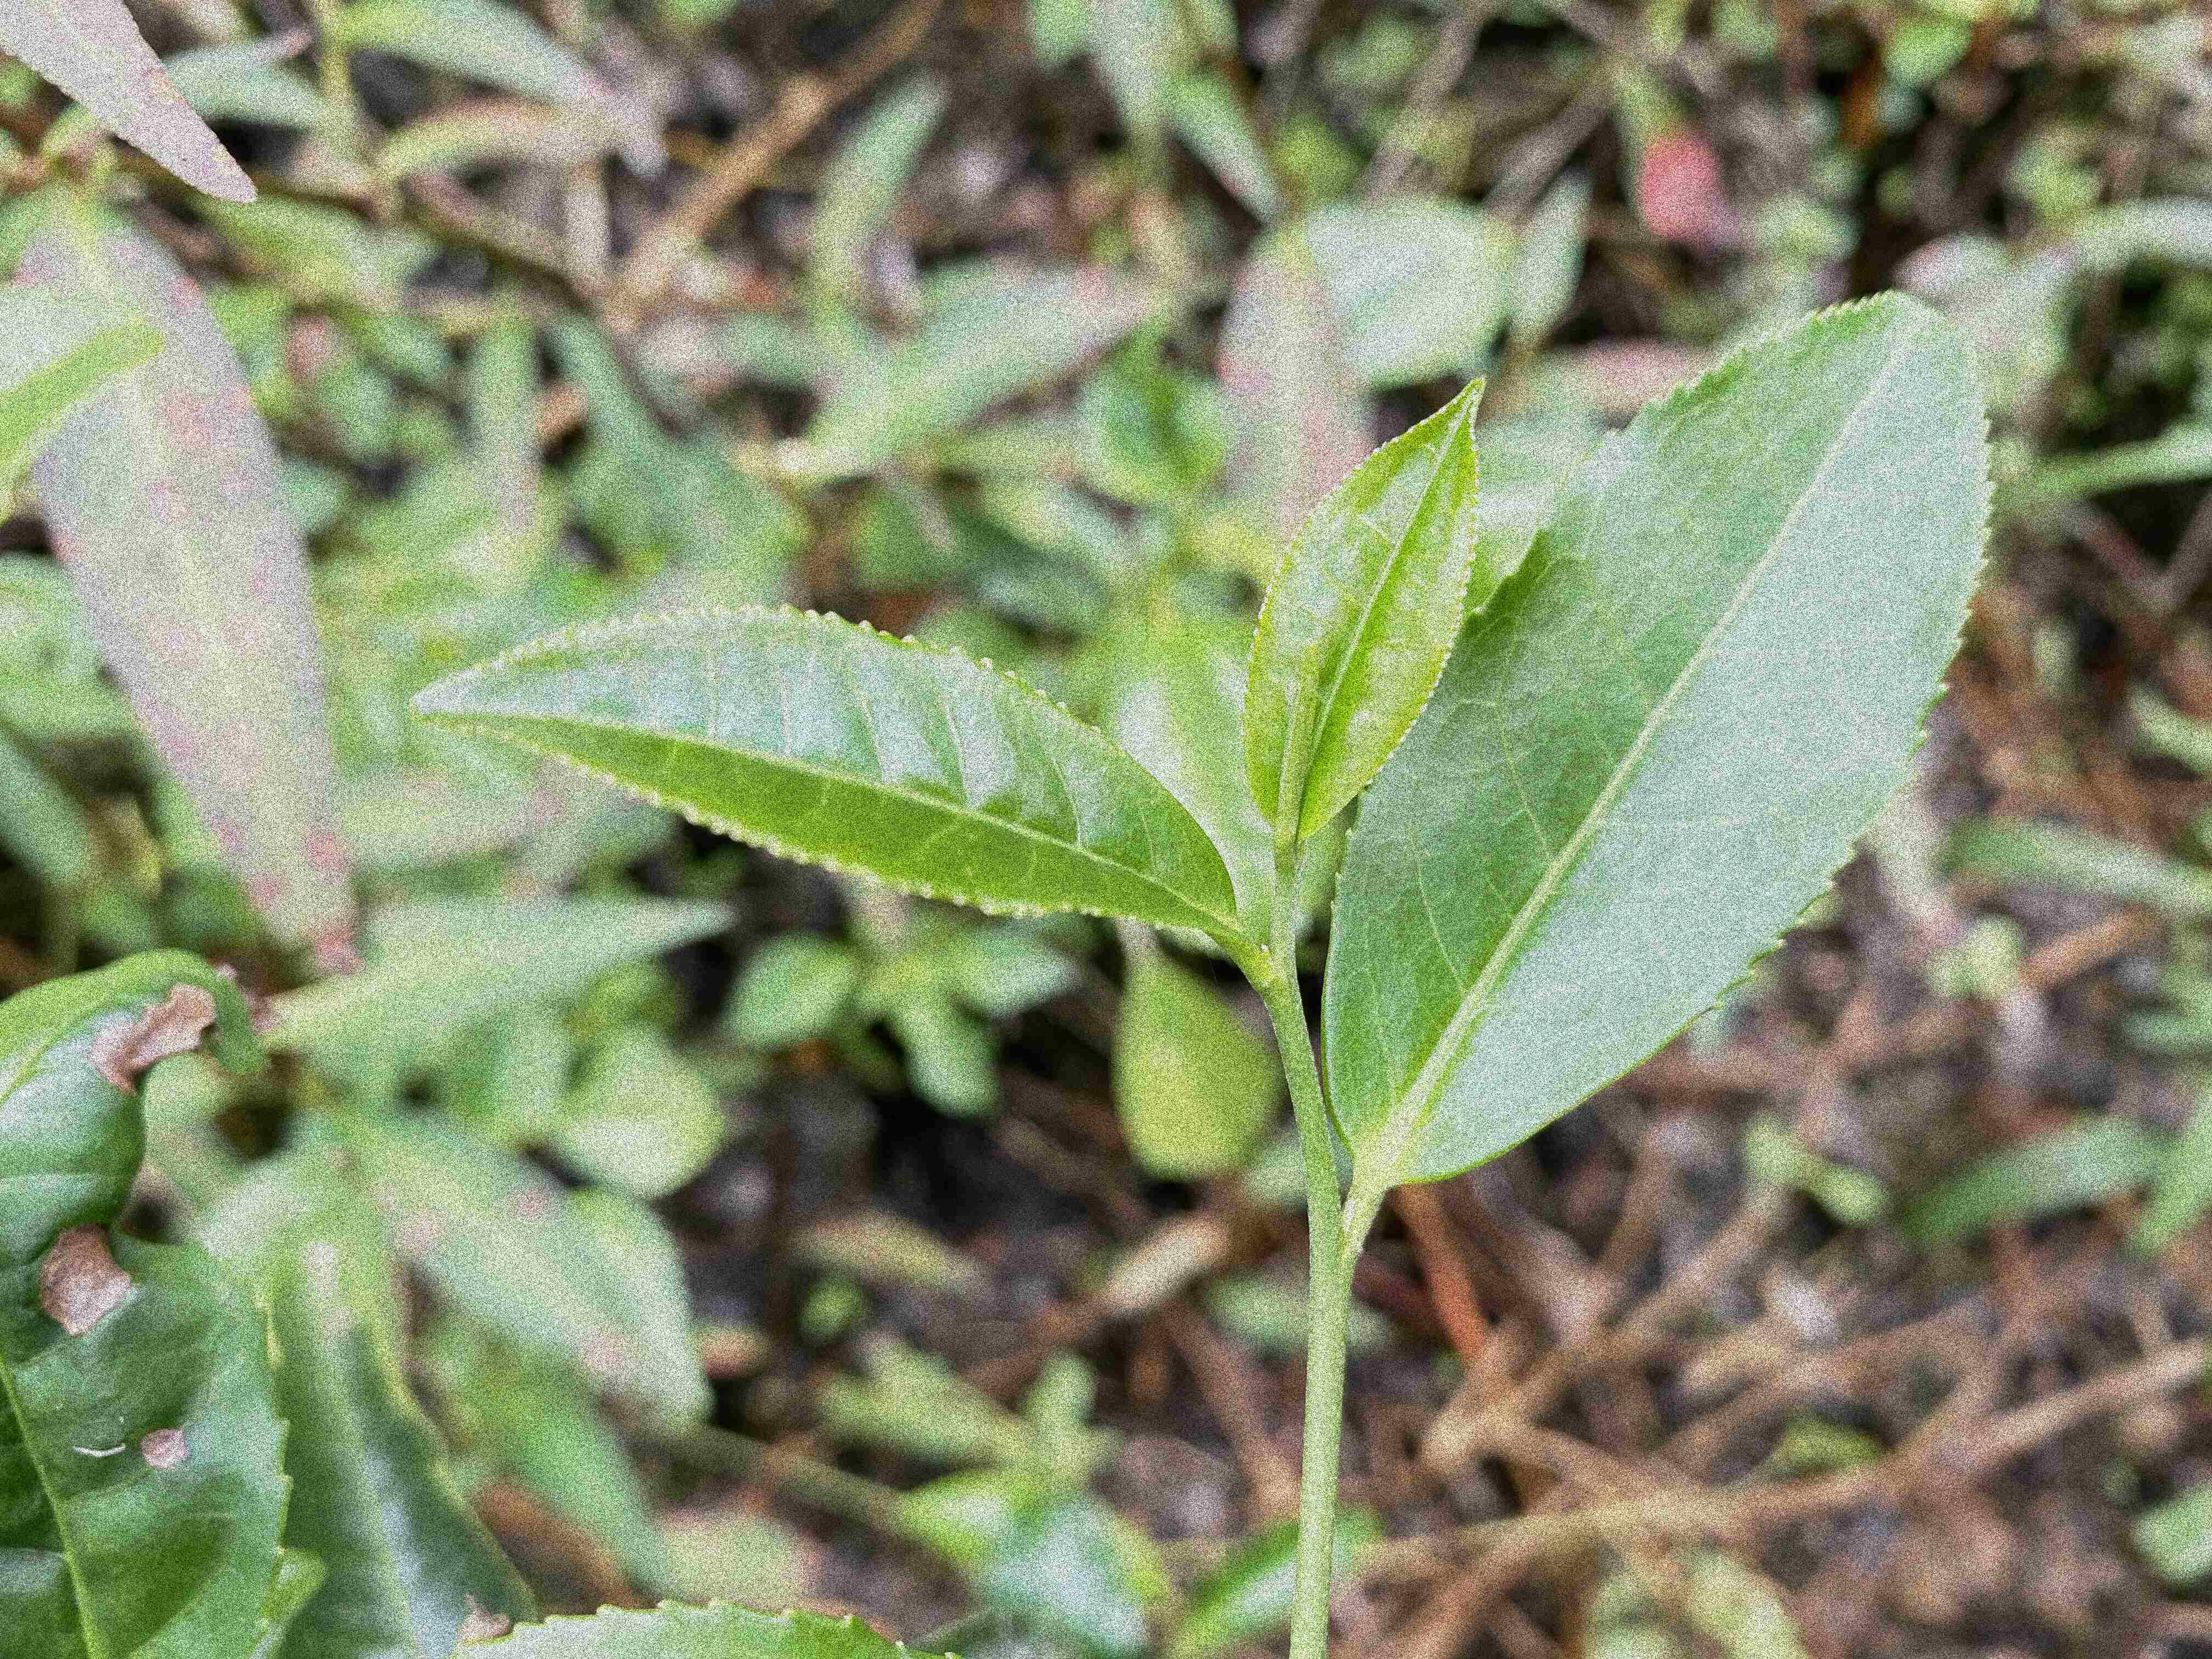healthy: (1320, 293, 2000, 1187), (408, 601, 1238, 939), (1240, 376, 1493, 847)
tanju_high: (5, 946, 298, 1654)
